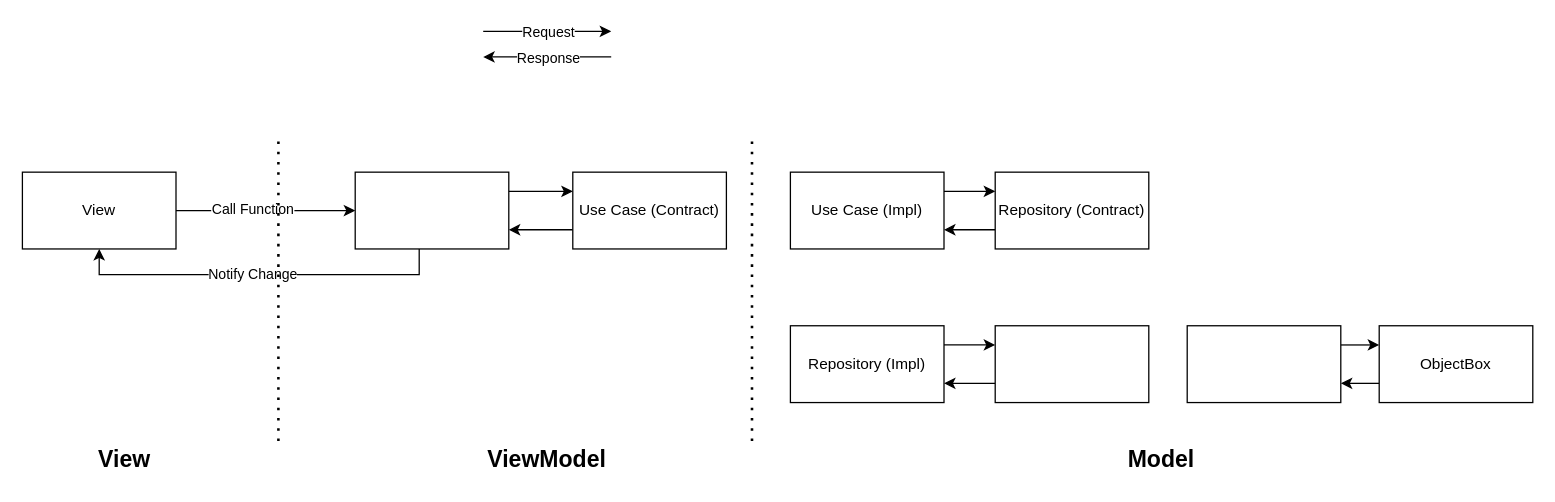
Some shapes in this 1555 by 502 pixel diagram are drawn without their labels. Each missing label, with the centre of its shape:
"Local Data Source (Contract)" belongs at pixel 1071 363.
"Local Data Source (Impl)" belongs at pixel 1263 363.
"View Model" belongs at pixel 431 210.
